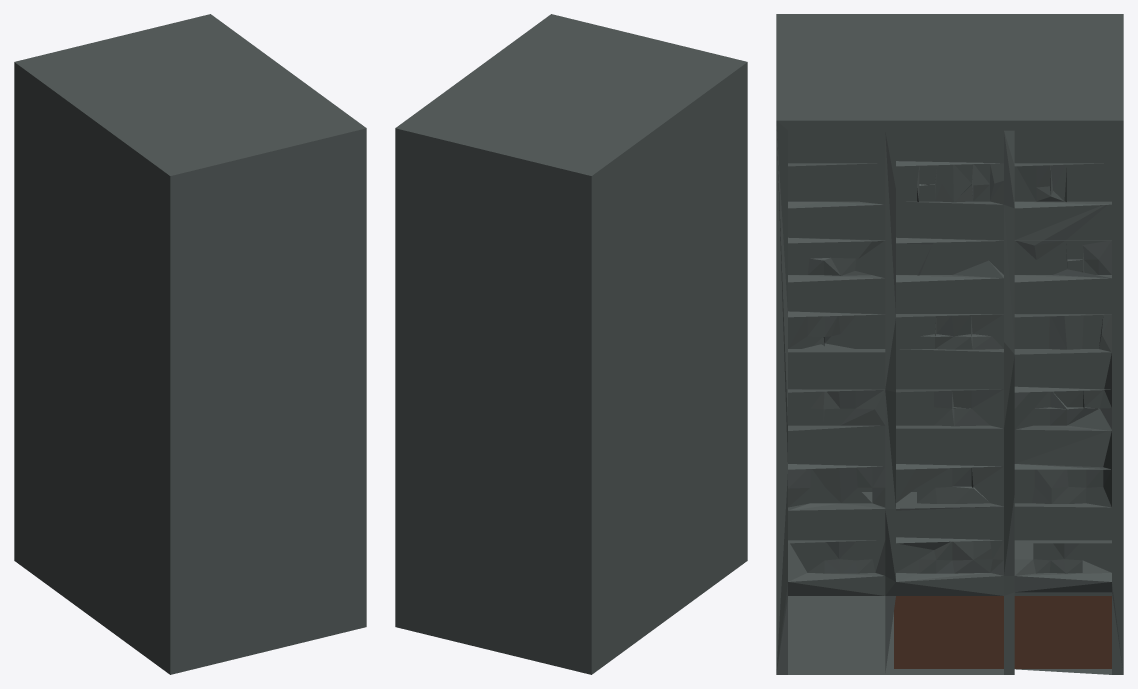
Rendered from abandoned-building.lod2.glb.
3 renders of one model, left to right at view 1: azimuth 30°, elevation 25°; view 2: azimuth 150°, elevation 25°; view 3: azimuth 270°, elevation 25°, orthographic. The views are drawn at different scales.
Parts seen in each view (by area): view 1: Cube_Material.002_0; view 2: Cube_Material.002_0; view 3: Cube_Material.002_0.
Boxes of the visible parts, left/top/right/bottom form: Cube_Material.002_0: left=14, top=14, right=366, bottom=674; Cube_Material.002_0: left=395, top=14, right=747, bottom=674; Cube_Material.002_0: left=776, top=14, right=1123, bottom=674.
Bounding box in the file's own units: 5.36 × 13 × 7.37.
